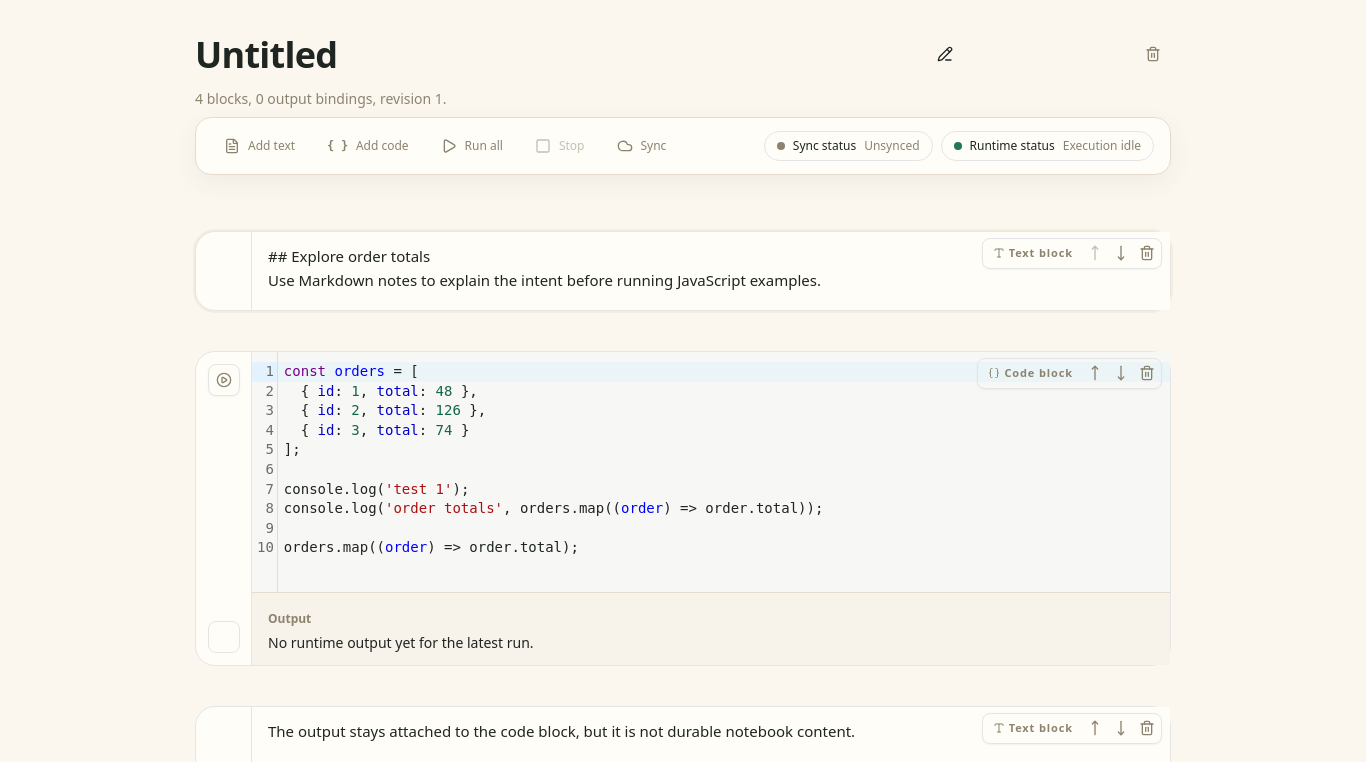
it: NotebookEditorView › renames a local-only notebook and persists the new title locally
The image size is (1366, 762).
Click the button named "Rename notebook title" at (945, 54), box left=927, top=36, right=963, bottom=72
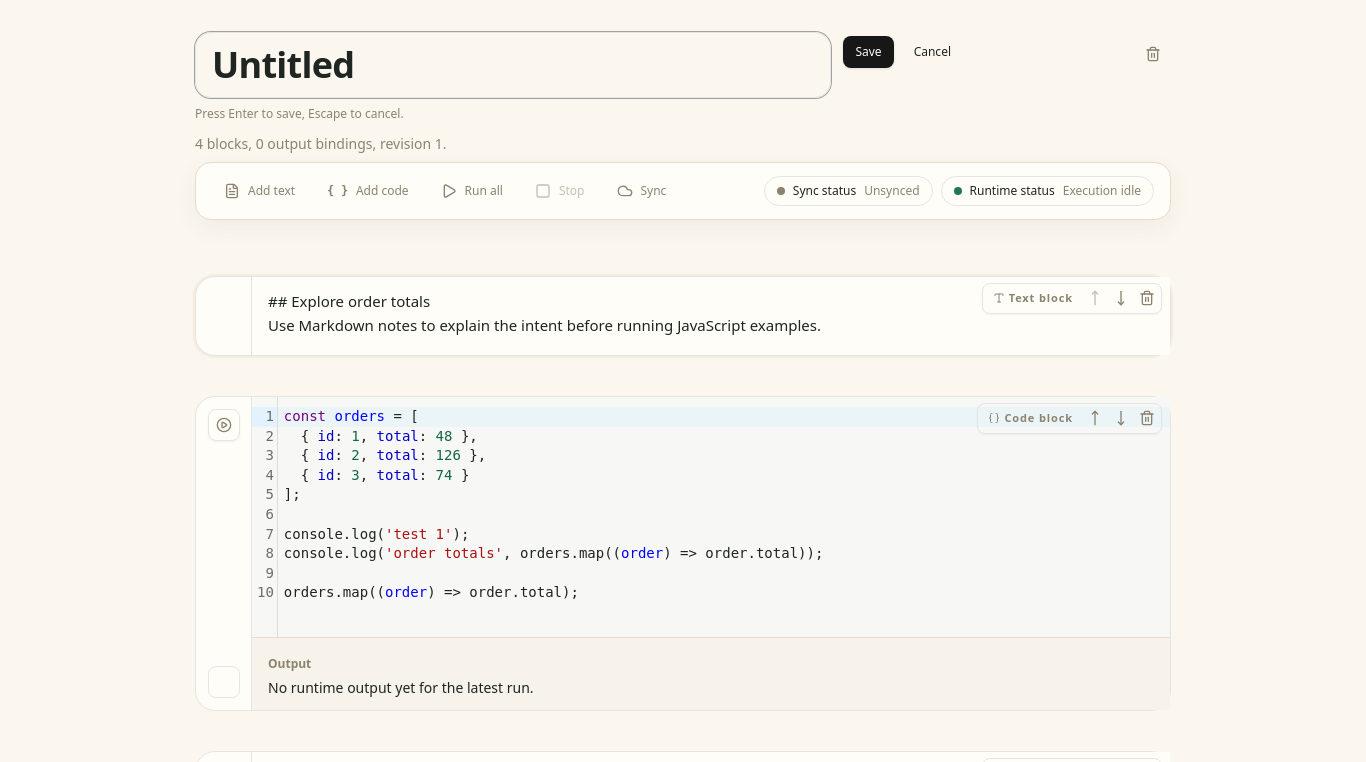
Replace the text in the field named "Notebook title" with "Project notes" at (513, 65), box left=195, top=32, right=832, bottom=98
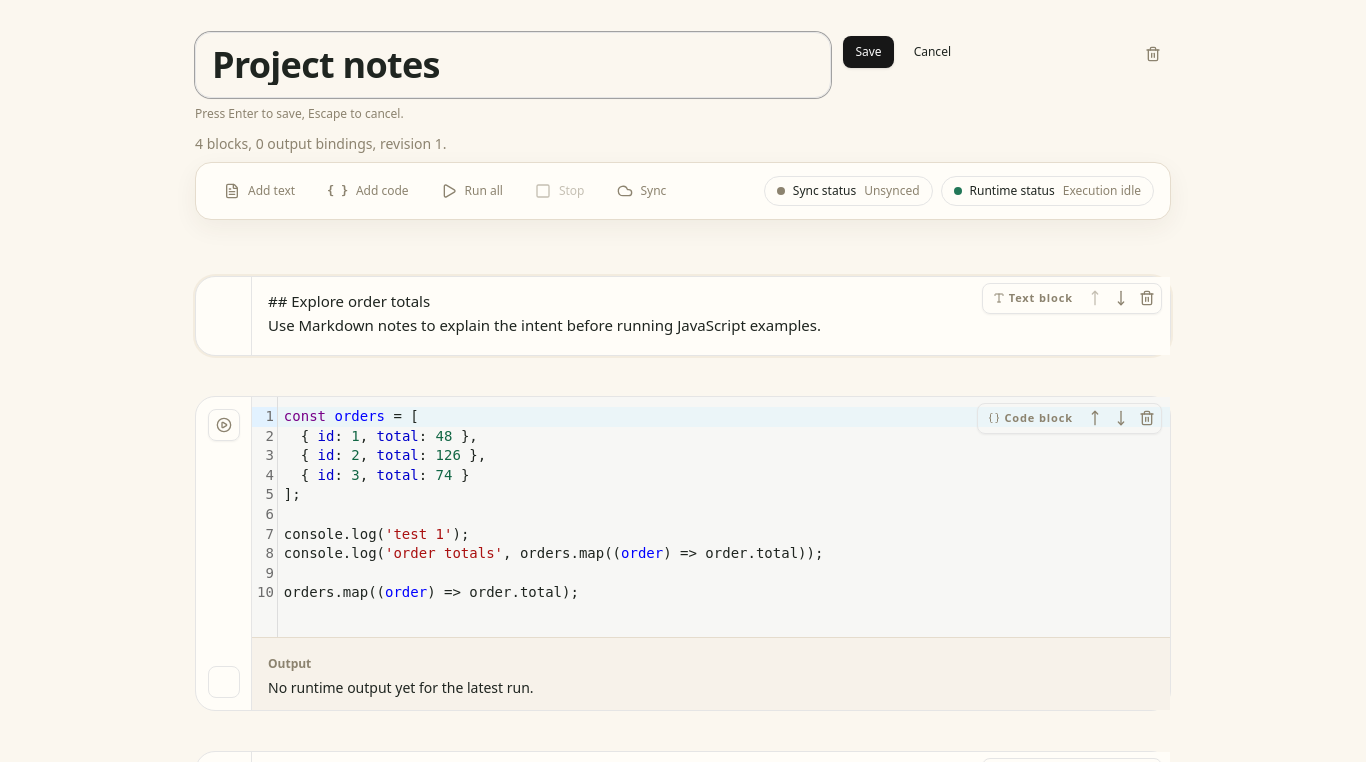
Click the button "Save" at (869, 52), box left=844, top=36, right=894, bottom=68
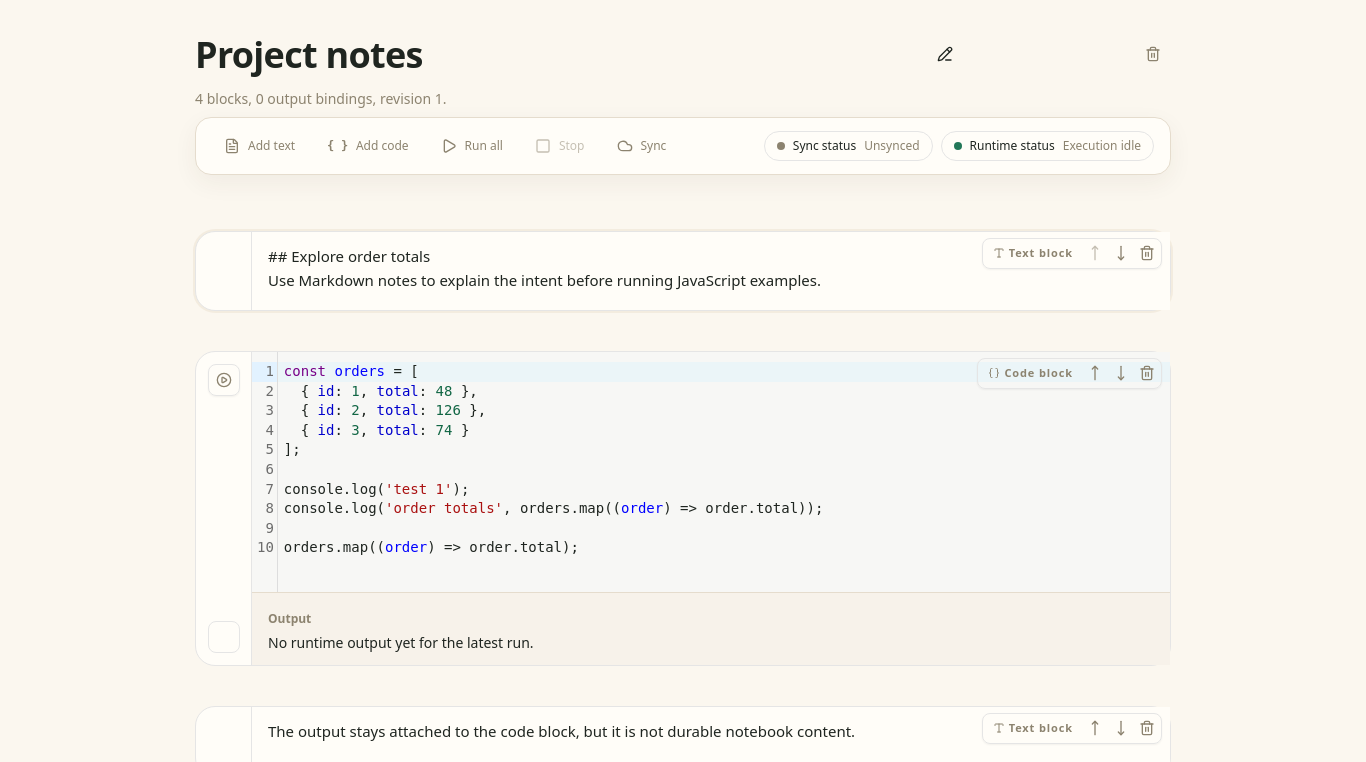
Expected: the heading "Project notes" is shown, left=195, top=30, right=423, bottom=79
